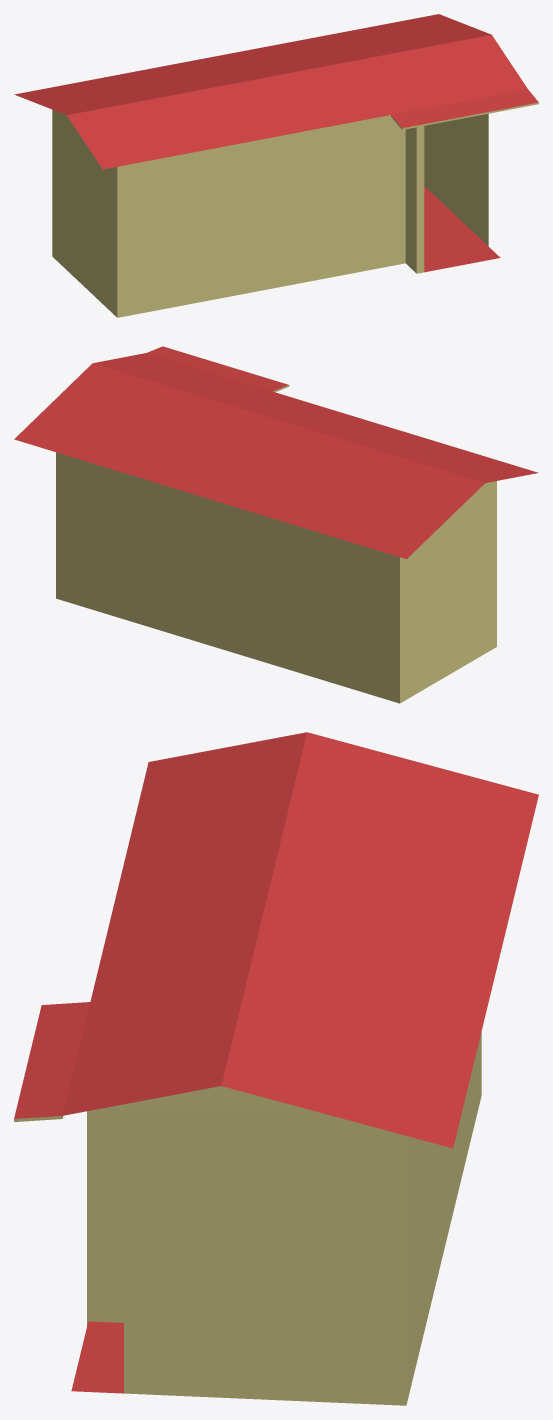
3 renders of one model, top to bottom at view 1: azimuth 30°, elevation 25°; view 2: azimuth 150°, elevation 25°; view 3: azimuth 270°, elevation 25°, orthographic. The views are drawn at different scales.
Bounding box in the file's own units: 25.13 × 15.04 × 10.56.
